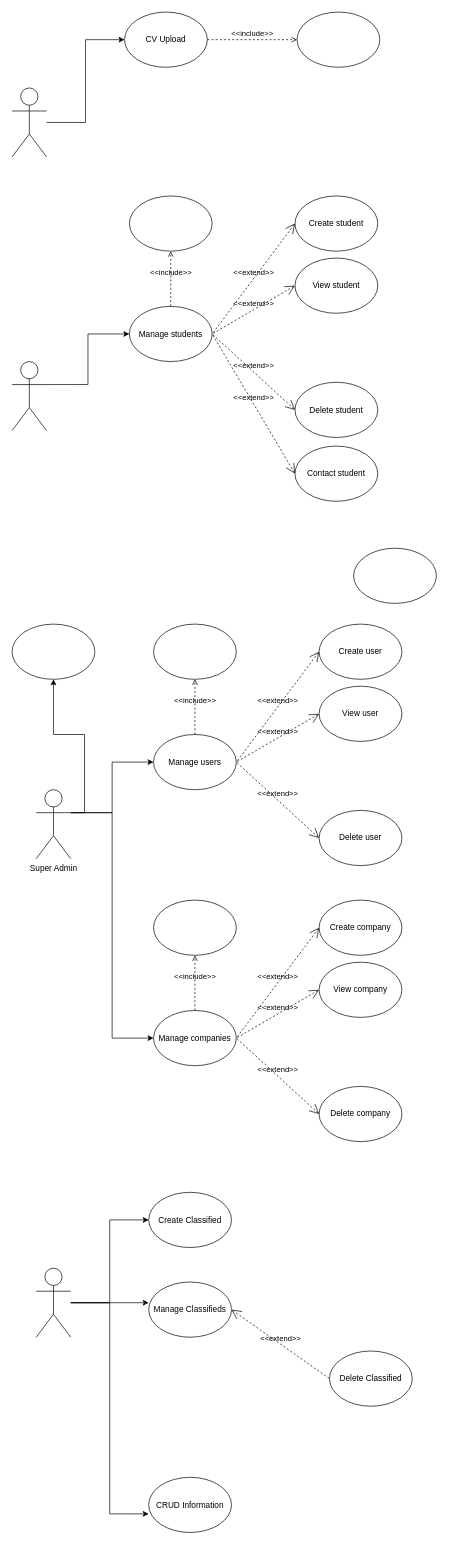
Image size: 449x1545. Some labels were removed from this diagram. Each missing label, with the centre of its shape:
"Admin" belongs at point (29, 396).
"Delete keyword" belongs at point (394, 575).
"External User" belongs at point (53, 1302).
"PDF Upload" belongs at point (338, 39).
"Student" belongs at point (29, 122).
"View all companies" belongs at point (194, 927).
"View all roles" belongs at point (53, 651).
"View all students" belongs at point (170, 223).
"View all users" belongs at point (194, 651).
